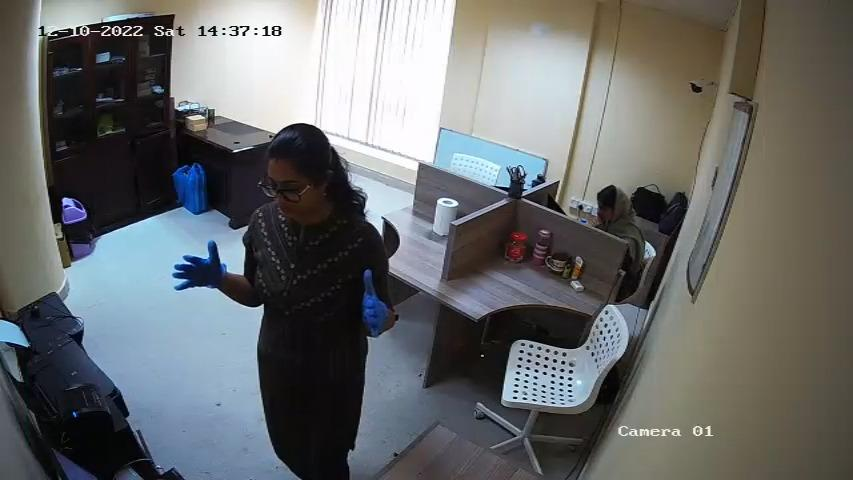gloves: (173, 231, 228, 294), (358, 264, 391, 339)
